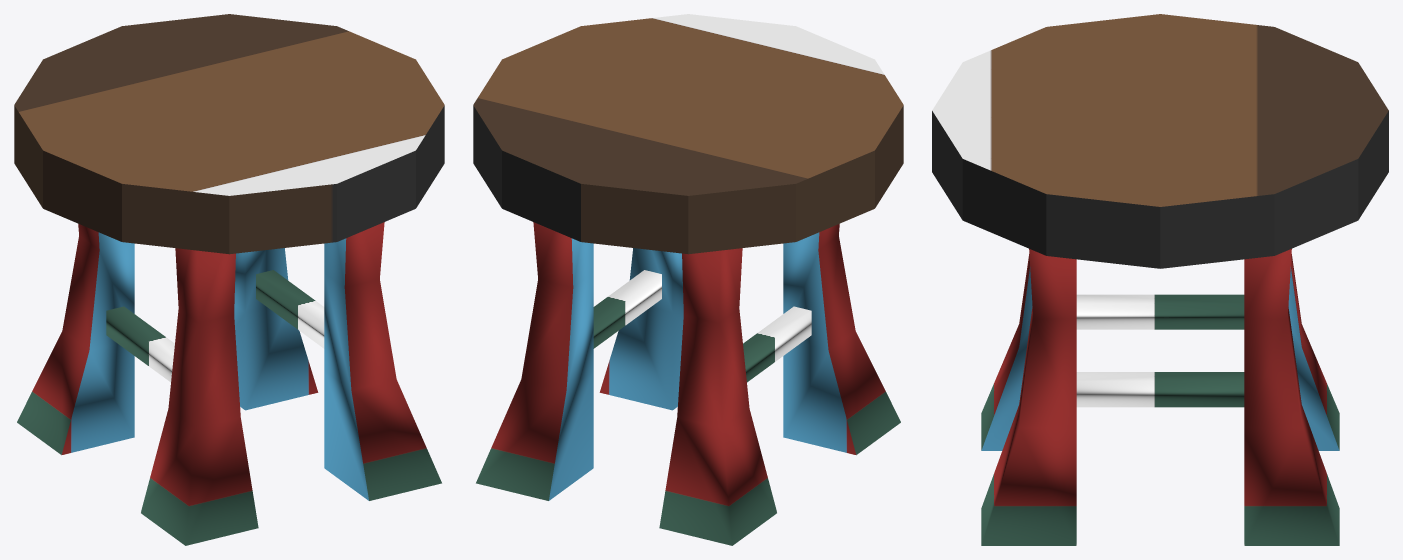
Rendered from Stool.fbx.
3 renders of one model, left to right at view 1: azimuth 30°, elevation 25°; view 2: azimuth 150°, elevation 25°; view 3: azimuth 270°, elevation 25°, orthographic. The views are drawn at different scales.
Visible parts, largest first — view 1: Stool; view 2: Stool; view 3: Stool.
Part boxes in pixels (left/top/right/bottom): Stool: left=14, top=14, right=444, bottom=545; Stool: left=473, top=14, right=903, bottom=545; Stool: left=932, top=14, right=1388, bottom=545.
Size of the model in its own units: 28.09 by 25.04 by 28.09.
